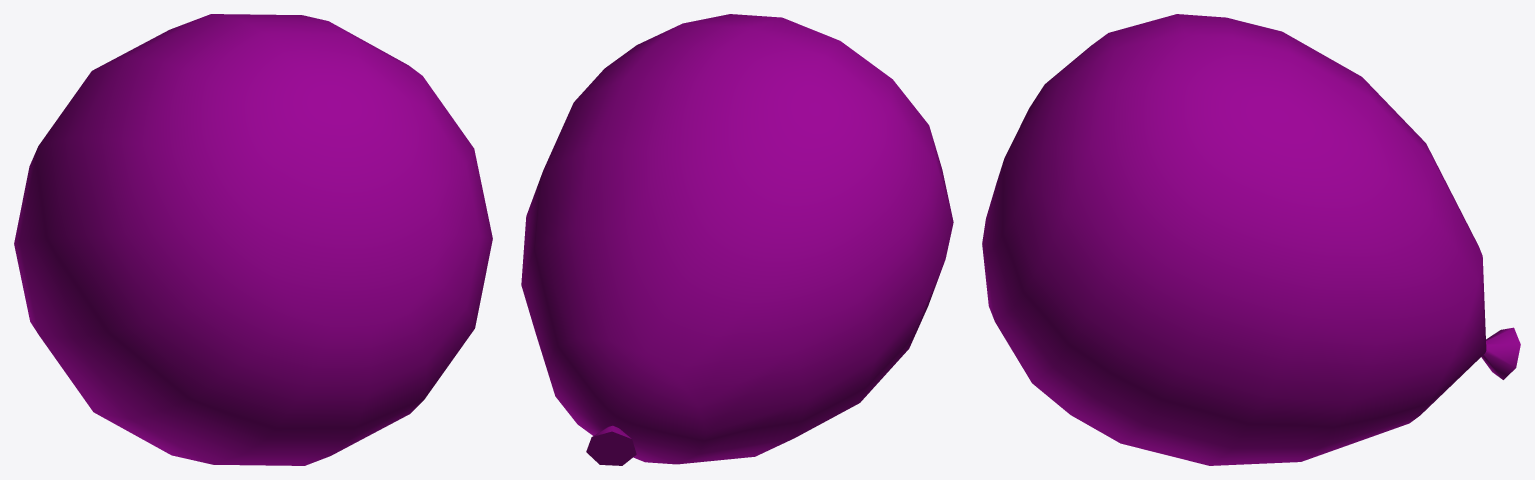
The model's file is Balloon.FBX.
3 views of the same model, side by side, from view 1: azimuth 30°, elevation 25°; view 2: azimuth 150°, elevation 25°; view 3: azimuth 270°, elevation 25° (orthographic). The views are drawn at different scales.
Visible parts, largest first — view 1: PRP_Balloon_1; view 2: PRP_Balloon_1; view 3: PRP_Balloon_1.
Boxes of the visible parts, left/top/right/bottom form: PRP_Balloon_1: left=14, top=14, right=492, bottom=465; PRP_Balloon_1: left=521, top=14, right=953, bottom=465; PRP_Balloon_1: left=982, top=14, right=1520, bottom=465.
Bounding box in the file's own units: 37.81 × 39.66 × 47.15.
